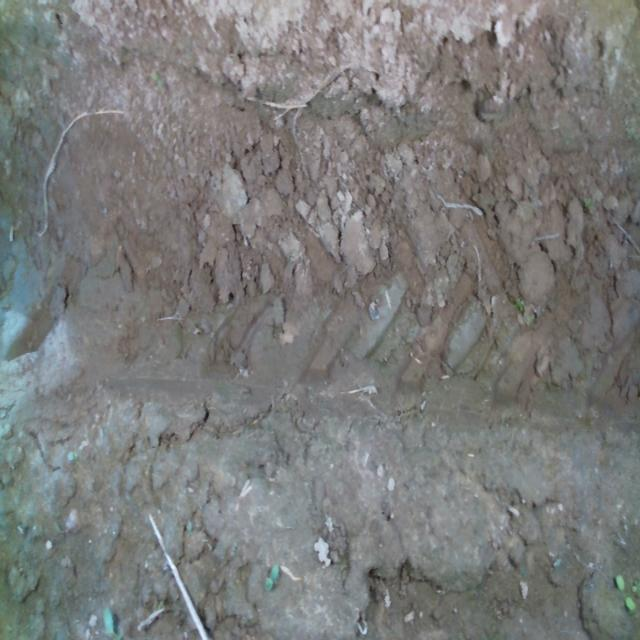weed: (263, 561, 279, 593)
